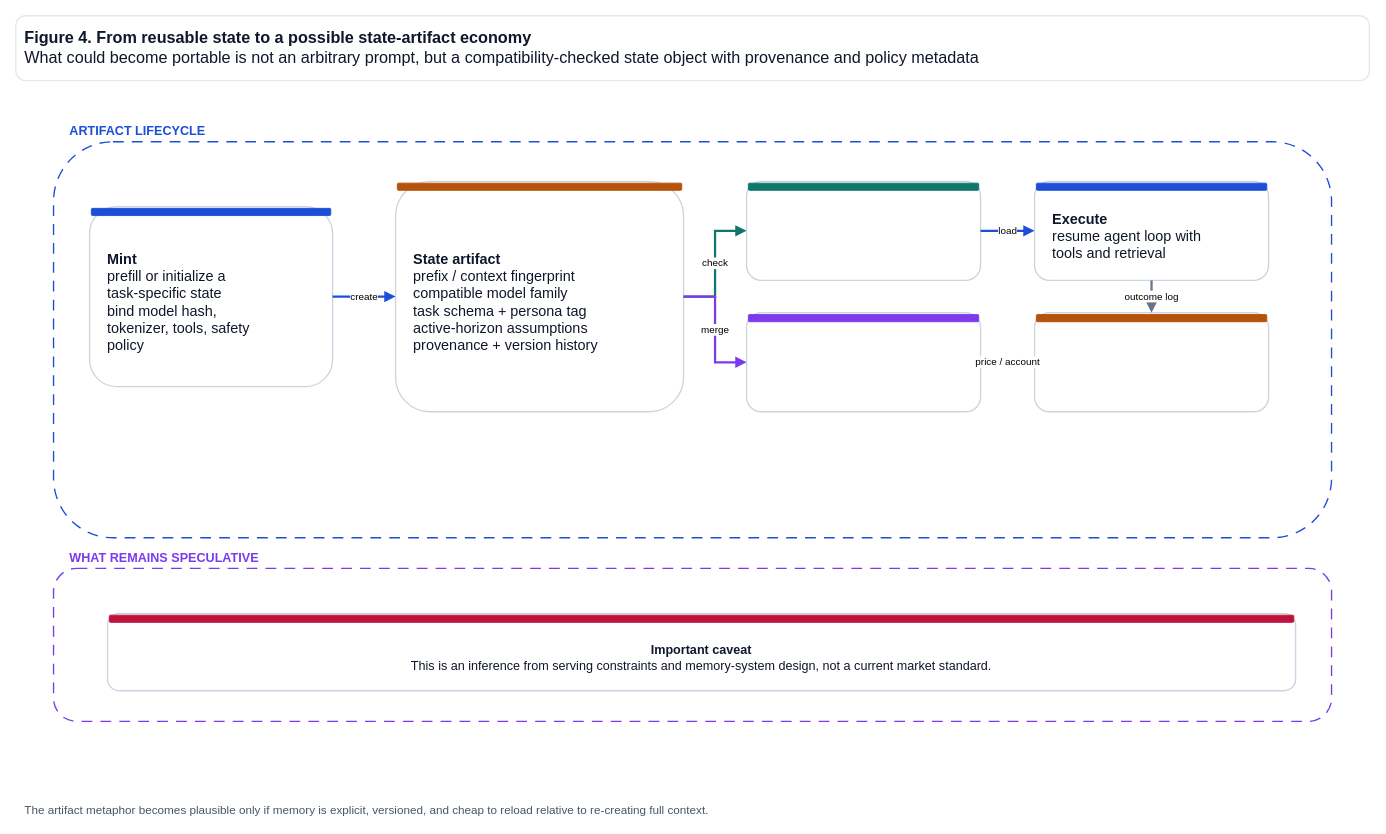
This 1386x834 diagram has some shape labels left out. The shapes that lost their labels are listed below. From the top down, each one's centre as x and y in pixels, then its label:
(863,230): Verify compatibility, provenance, safety
(863,362): Compose merge with workflow state or org memory
(1151,362): Settle price usage, track value, log outcomes
